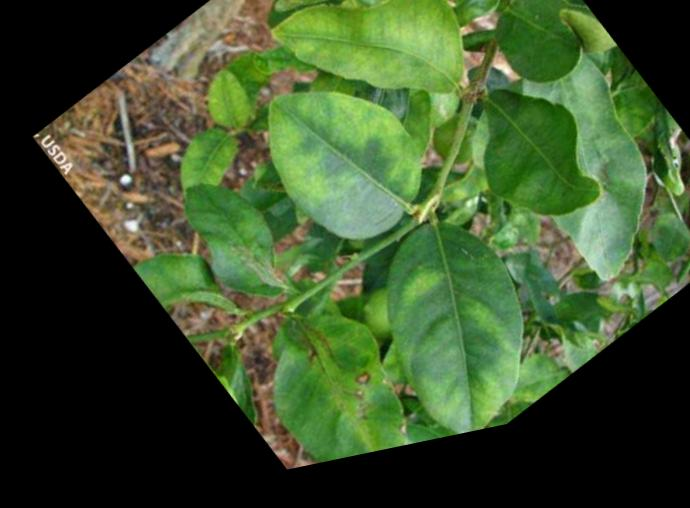Citrus Greening: (307, 198, 568, 465), (217, 40, 450, 293), (251, 0, 498, 184)
